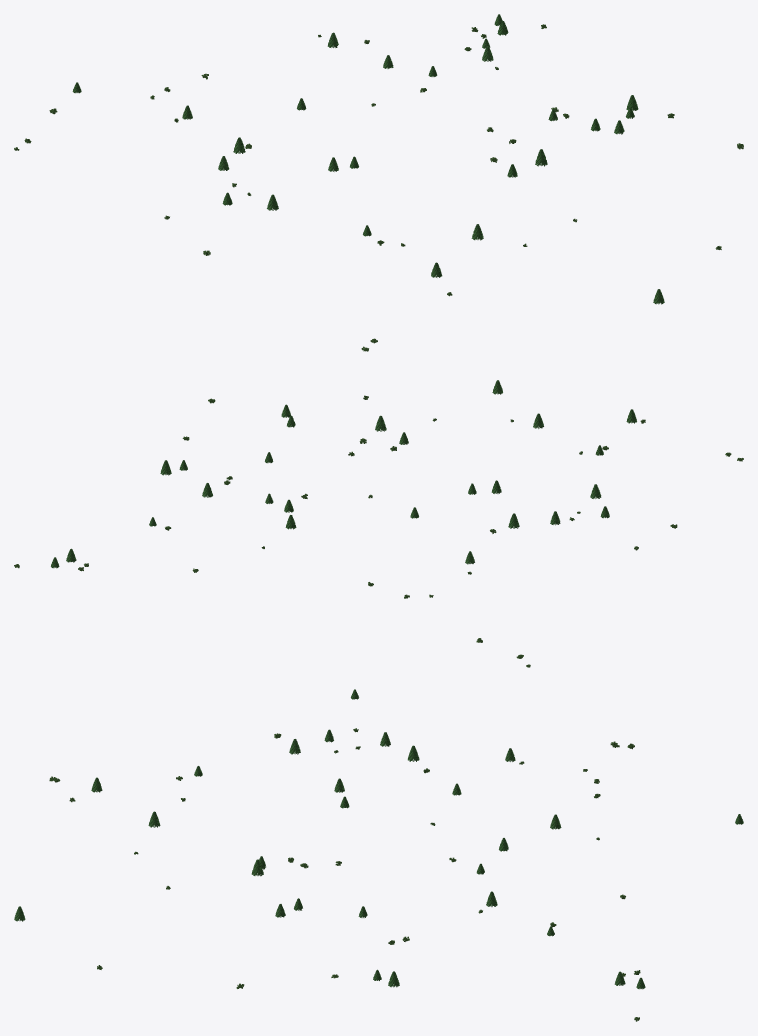
File: arch_canopy_gullhaven.glb
3 views of the same model, one above another, from view 1: azimuth 30°, elevation 25°; view 2: azimuth 150°, elevation 25°; view 3: azimuth 270°, elevation 25° (orthographic). The views are drawn at different scales.
Parts seen in each view (by area): view 1: arch_canopy_gullhaven; view 2: arch_canopy_gullhaven; view 3: arch_canopy_gullhaven.
Part boxes in pixels (box(x1,y1,x2,y2)): arch_canopy_gullhaven: box(14, 14, 743, 351); arch_canopy_gullhaven: box(14, 380, 743, 699); arch_canopy_gullhaven: box(14, 728, 743, 1021).
Size of the model in its own units: 259 by 40.38 by 308.
